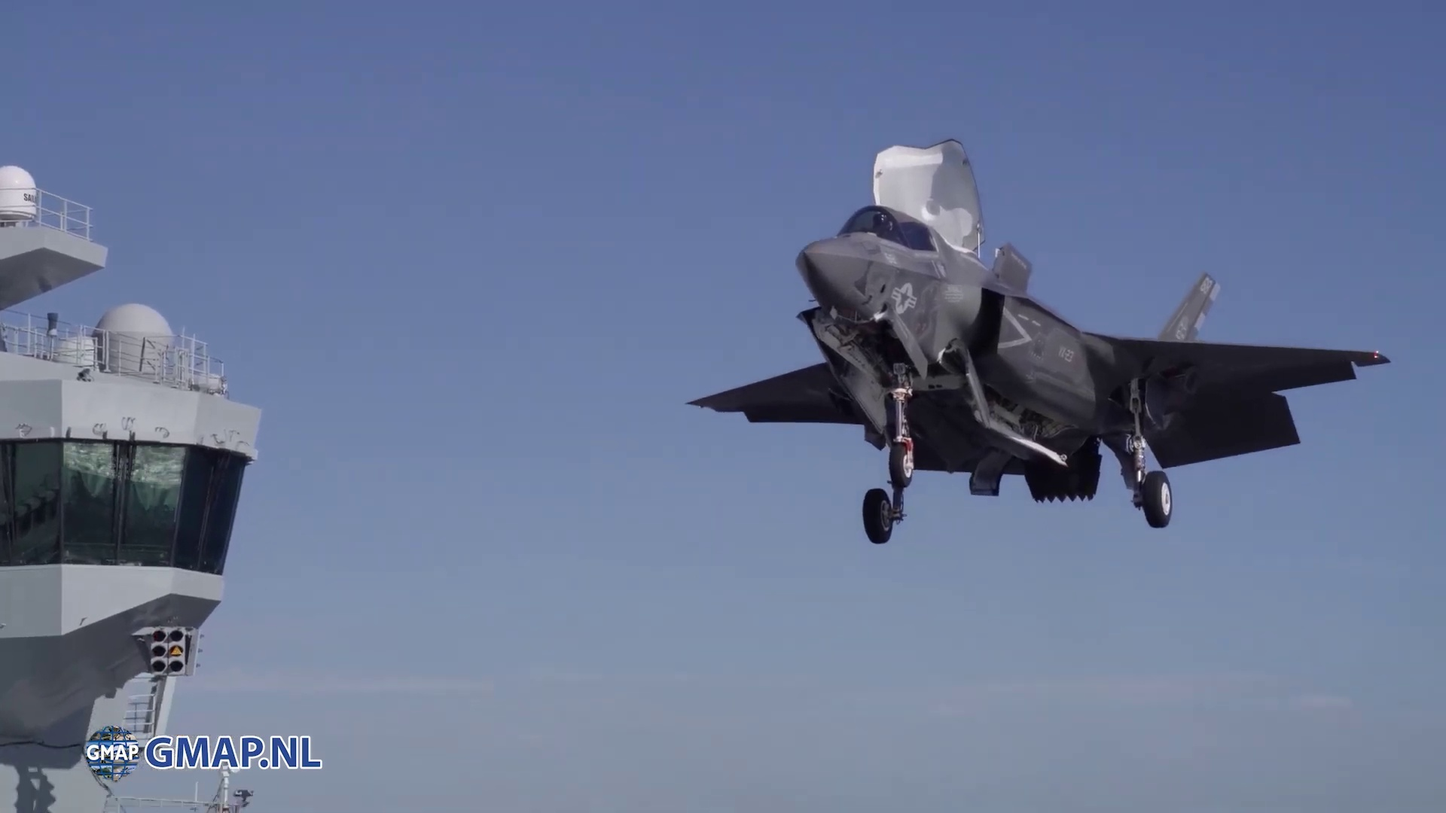F35: (681, 136, 1393, 546)
